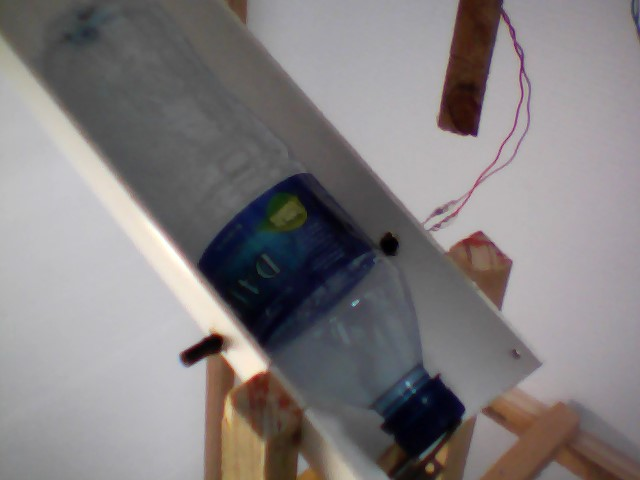plastico: (30, 1, 469, 462)
